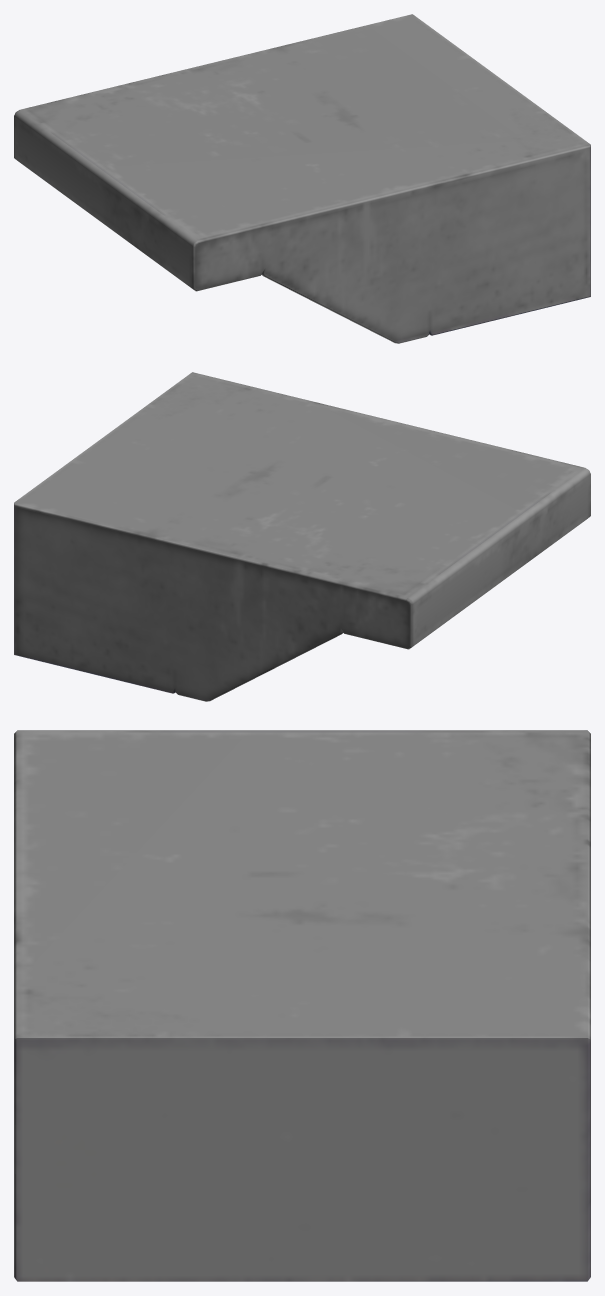
Rendered from SM_CorridorRoofSet03.fbx.
The picture shows the model from 3 angles, top to bottom: view 1: azimuth 30°, elevation 25°; view 2: azimuth 150°, elevation 25°; view 3: azimuth 270°, elevation 25°; orthographic projection. The views are drawn at different scales.
Parts seen in each view (by area): view 1: SM_CorridorRoofSet03_LOD0; view 2: SM_CorridorRoofSet03_LOD0; view 3: SM_CorridorRoofSet03_LOD0.
Part boxes in pixels (box(x1,y1,x2,y2)): SM_CorridorRoofSet03_LOD0: box(14, 14, 590, 343); SM_CorridorRoofSet03_LOD0: box(14, 372, 590, 701); SM_CorridorRoofSet03_LOD0: box(14, 730, 590, 1281).
Bounding box in the file's own units: 102 × 80 × 37.29.
1 material, 1 textured.
